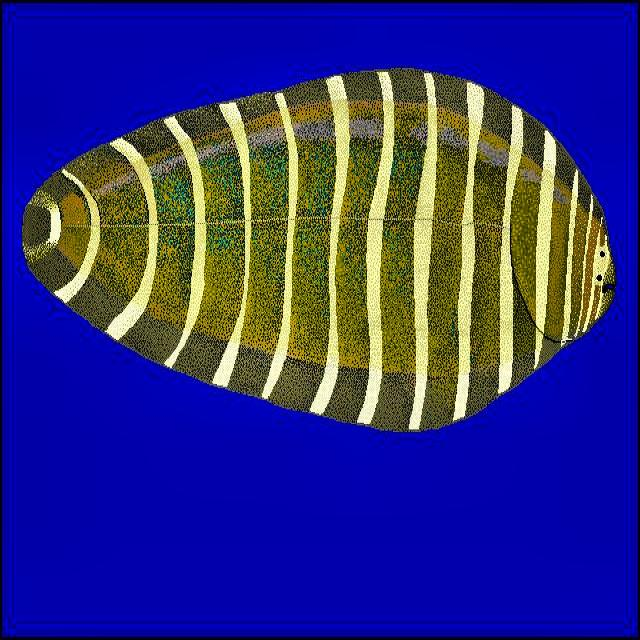fish: (15, 67, 622, 443)
